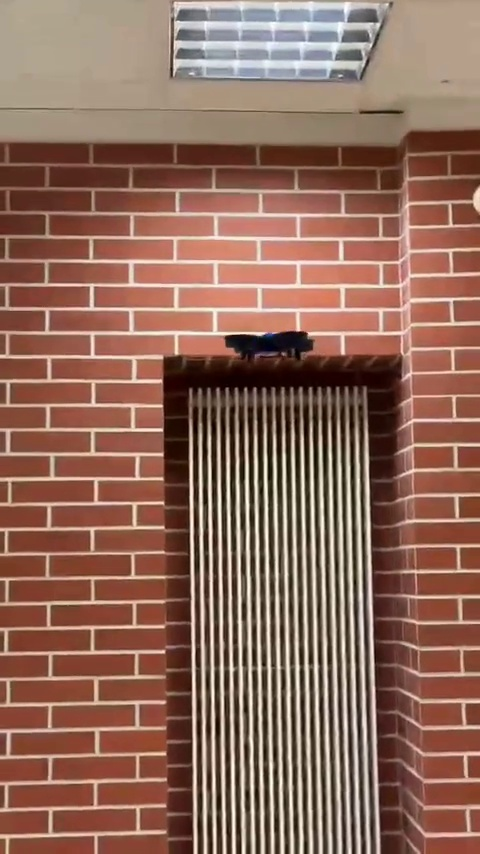drone: (224, 330, 312, 360)
